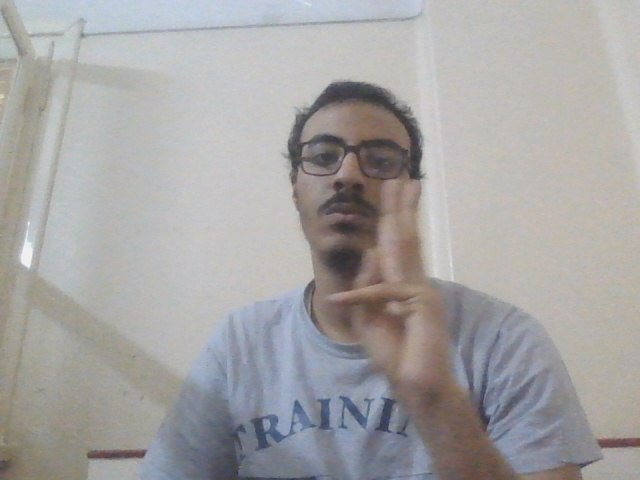Water: (324, 175, 465, 397)
